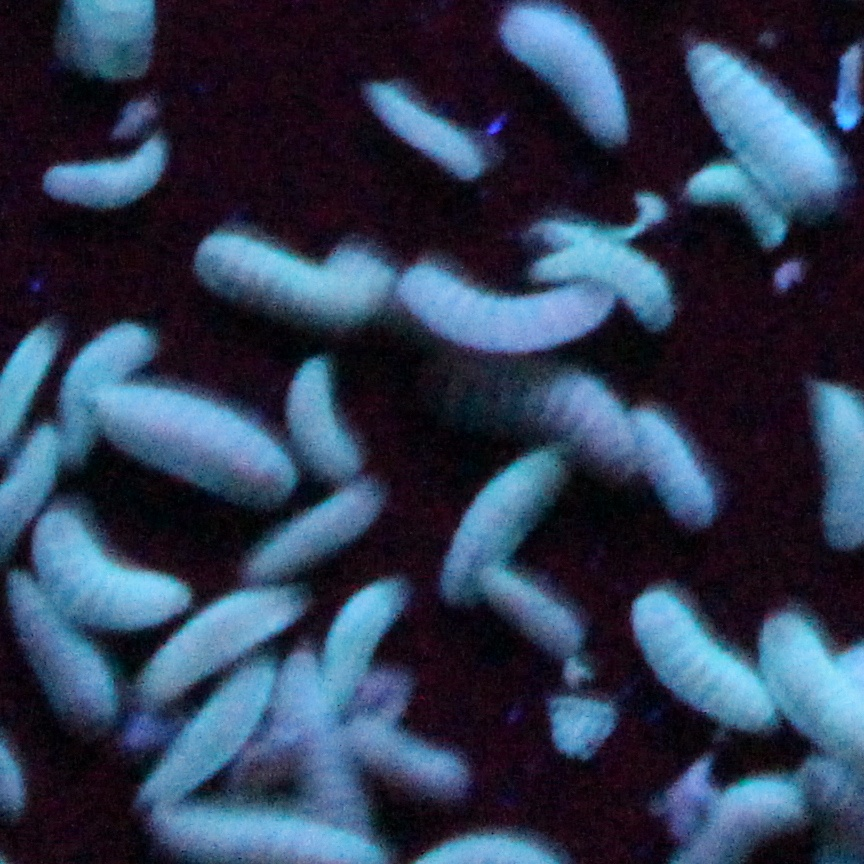larve: (686, 42, 844, 227), (94, 386, 297, 505), (471, 350, 633, 476), (633, 588, 773, 729), (140, 587, 301, 706), (442, 447, 564, 604), (142, 664, 273, 807), (33, 511, 189, 629), (400, 269, 613, 353), (279, 649, 371, 840), (502, 5, 627, 143), (7, 570, 116, 727), (193, 235, 371, 320), (244, 484, 382, 580), (531, 241, 672, 326), (58, 322, 154, 441), (368, 83, 482, 177), (322, 578, 401, 713), (350, 714, 470, 796), (632, 411, 714, 526), (286, 360, 358, 480), (482, 569, 577, 655), (44, 138, 164, 206), (688, 164, 785, 248), (327, 249, 398, 289)
